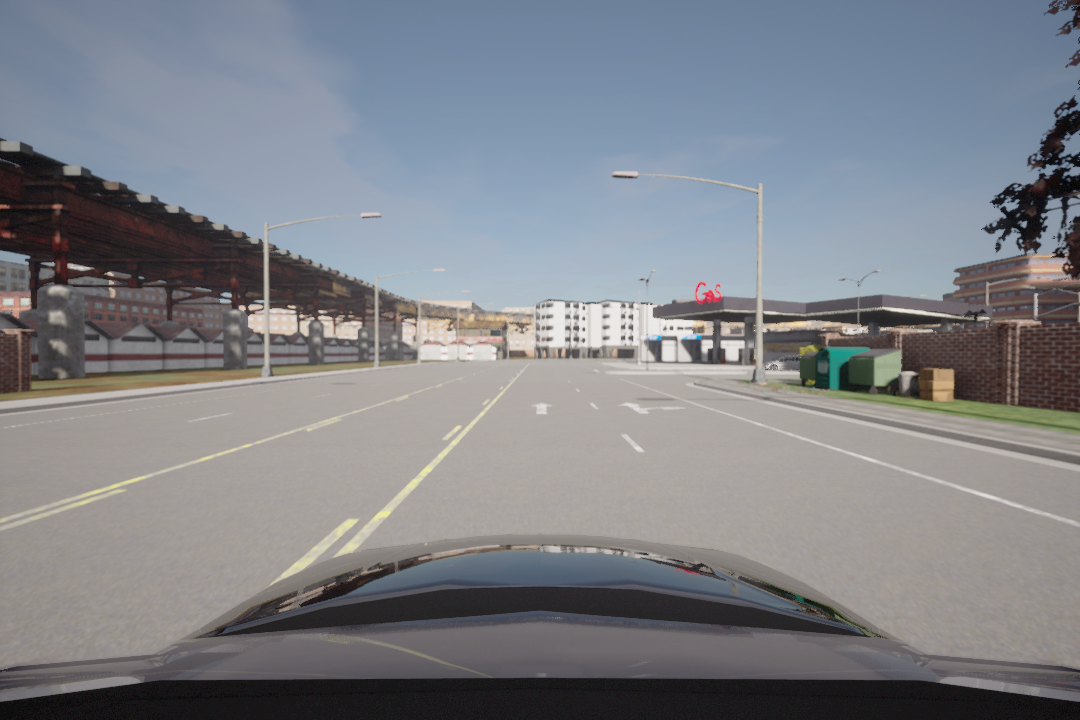RoadSign_forward: (527, 398, 554, 419)
RoadSign_forward_right: (619, 399, 689, 419)
